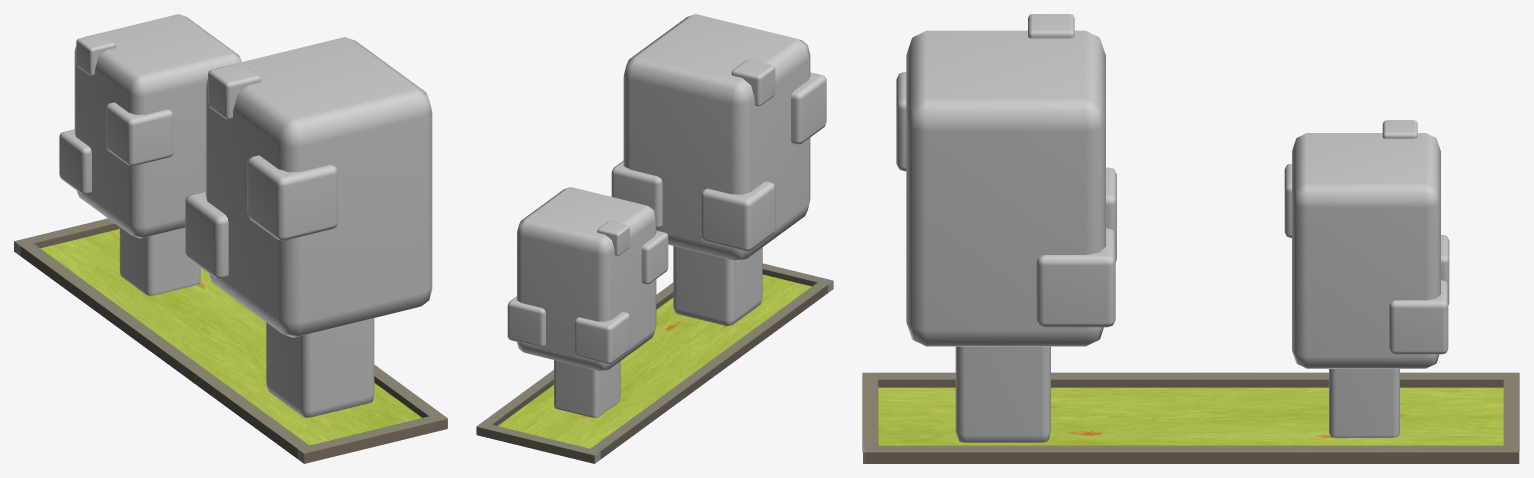
Rendered from boncay_1.fbx.
3 renders of one model, left to right at view 1: azimuth 30°, elevation 25°; view 2: azimuth 150°, elevation 25°; view 3: azimuth 270°, elevation 25°, orthographic. The views are drawn at different scales.
Visible parts, largest first — view 1: boncay_1; view 2: boncay_1; view 3: boncay_1.
Boxes of the visible parts, x1=… form: boncay_1: x1=14, y1=14, x2=447, y2=463; boncay_1: x1=476, y1=14, x2=833, y2=463; boncay_1: x1=862, y1=14, x2=1519, y2=463.
Bounding box in the file's own units: 477 × 883 × 1410.
